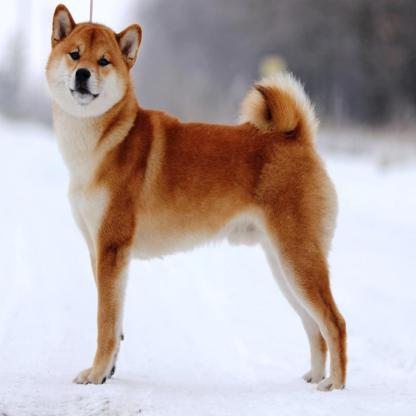Siba-ny: (27, 3, 353, 396)
